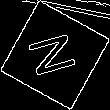N_E: (25, 29, 85, 81)
